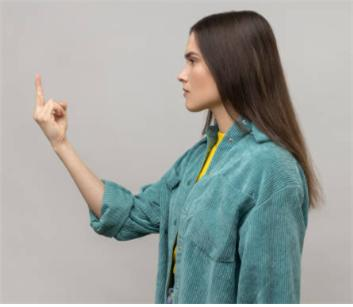insulting_gesture: (30, 71, 75, 157)
